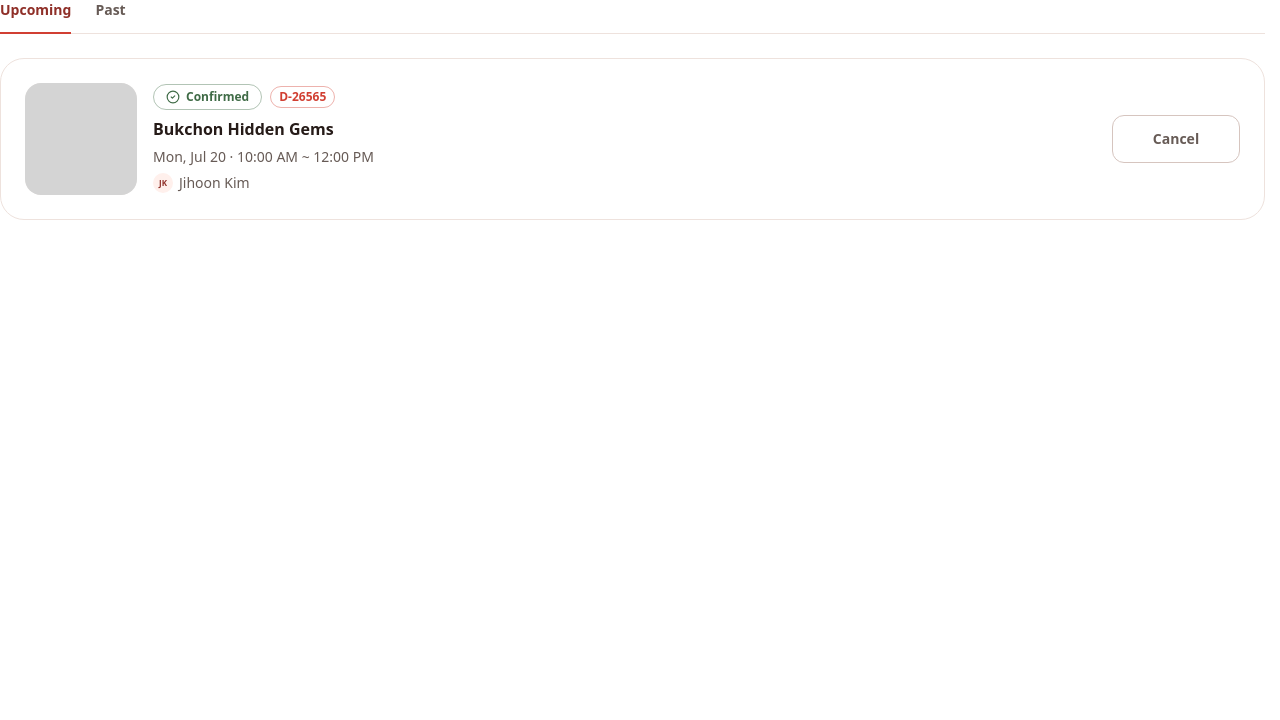
Test: ApplicationsContent › cancels referral applications without payment or refund APIs
What coordinates should you click on to do the following:
click the button "Cancel"
I would click on:
 (1176, 139)
Its box is [1112, 115, 1240, 163].
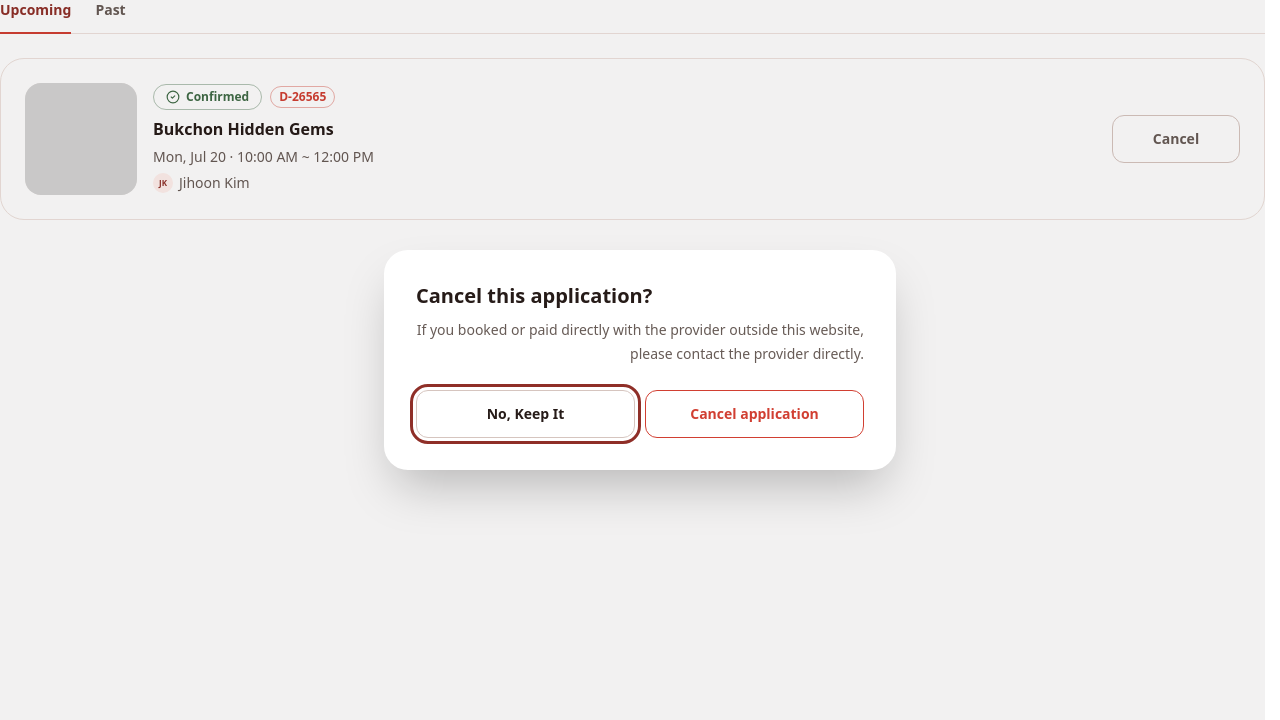
What coordinates should you click on to do the following:
click the button "Cancel application"
I would click on:
 (754, 414)
Its box is [645, 390, 864, 438].
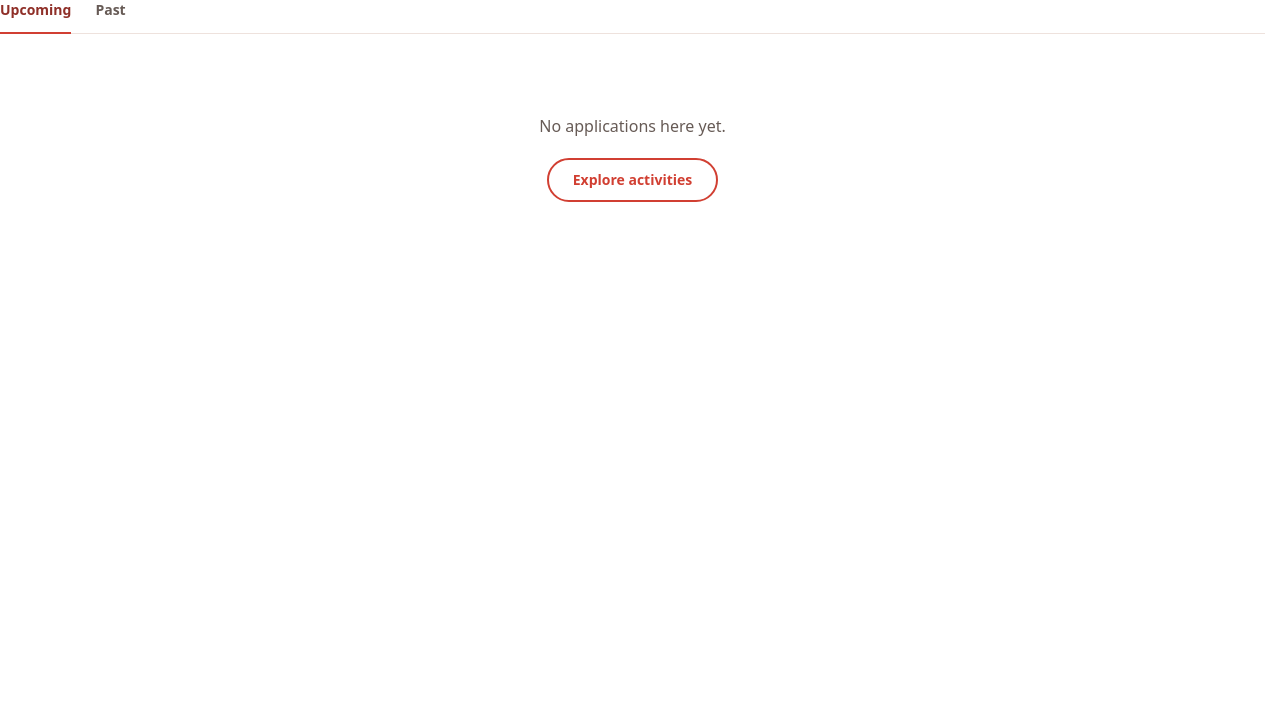
expect the dialog is gone: met
